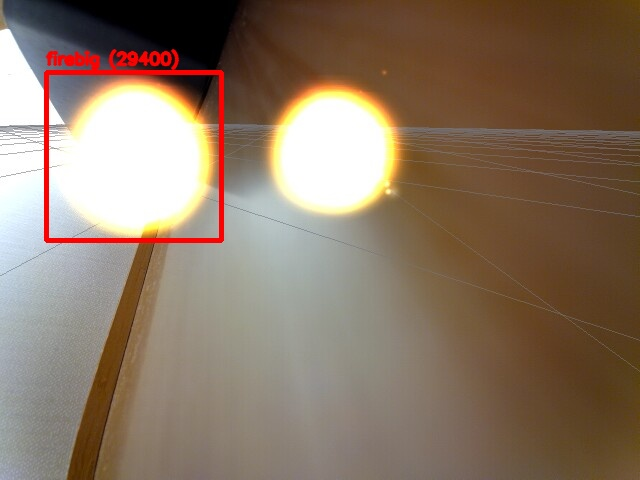firebig: (46, 72, 221, 240)
